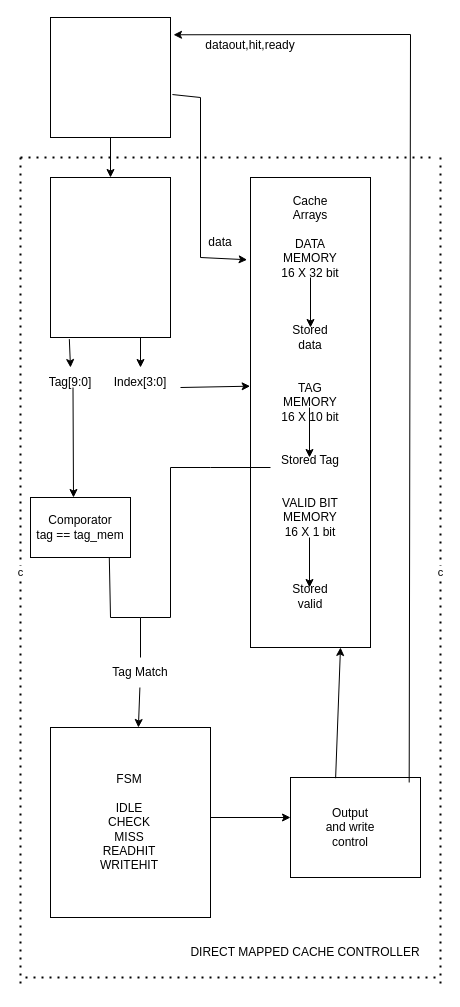
This 460x1007 diagram has some shape labels left out. Here are the shapes that lost their labels. From the top down, the centre of each, then its label:
point (110, 77): CPU address[15:0] data[31:0] req_valid req_type
point (110, 257): Adress Decoder tag=Address[15:6] index=Address[5:2] Offset=Address[1:0]
